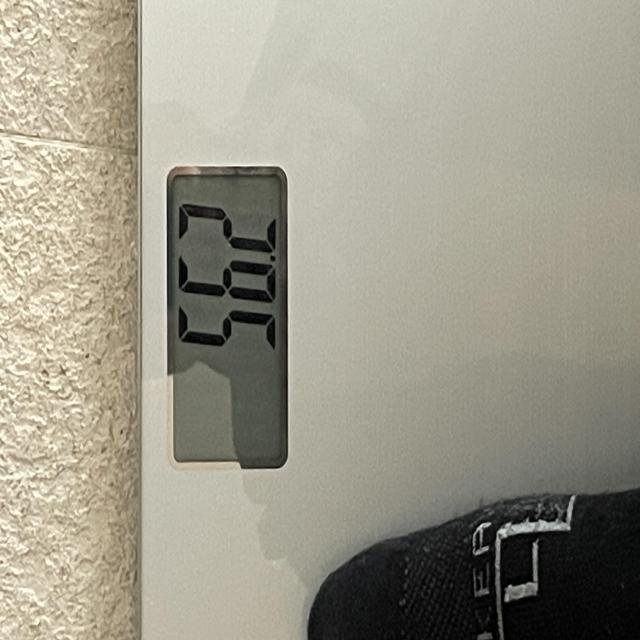ws: (110, 0, 640, 640)
